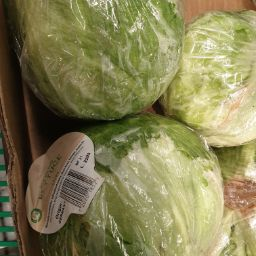Lettuce: (6, 6, 250, 252), (58, 113, 232, 256), (7, 1, 188, 124), (173, 6, 256, 186)
